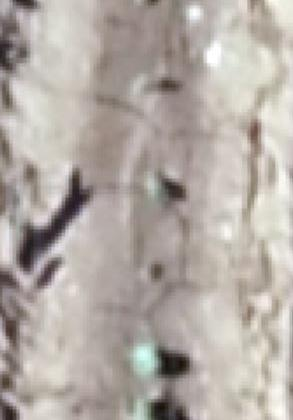cotton: (133, 343, 159, 373), (125, 401, 149, 420), (147, 181, 167, 198)
